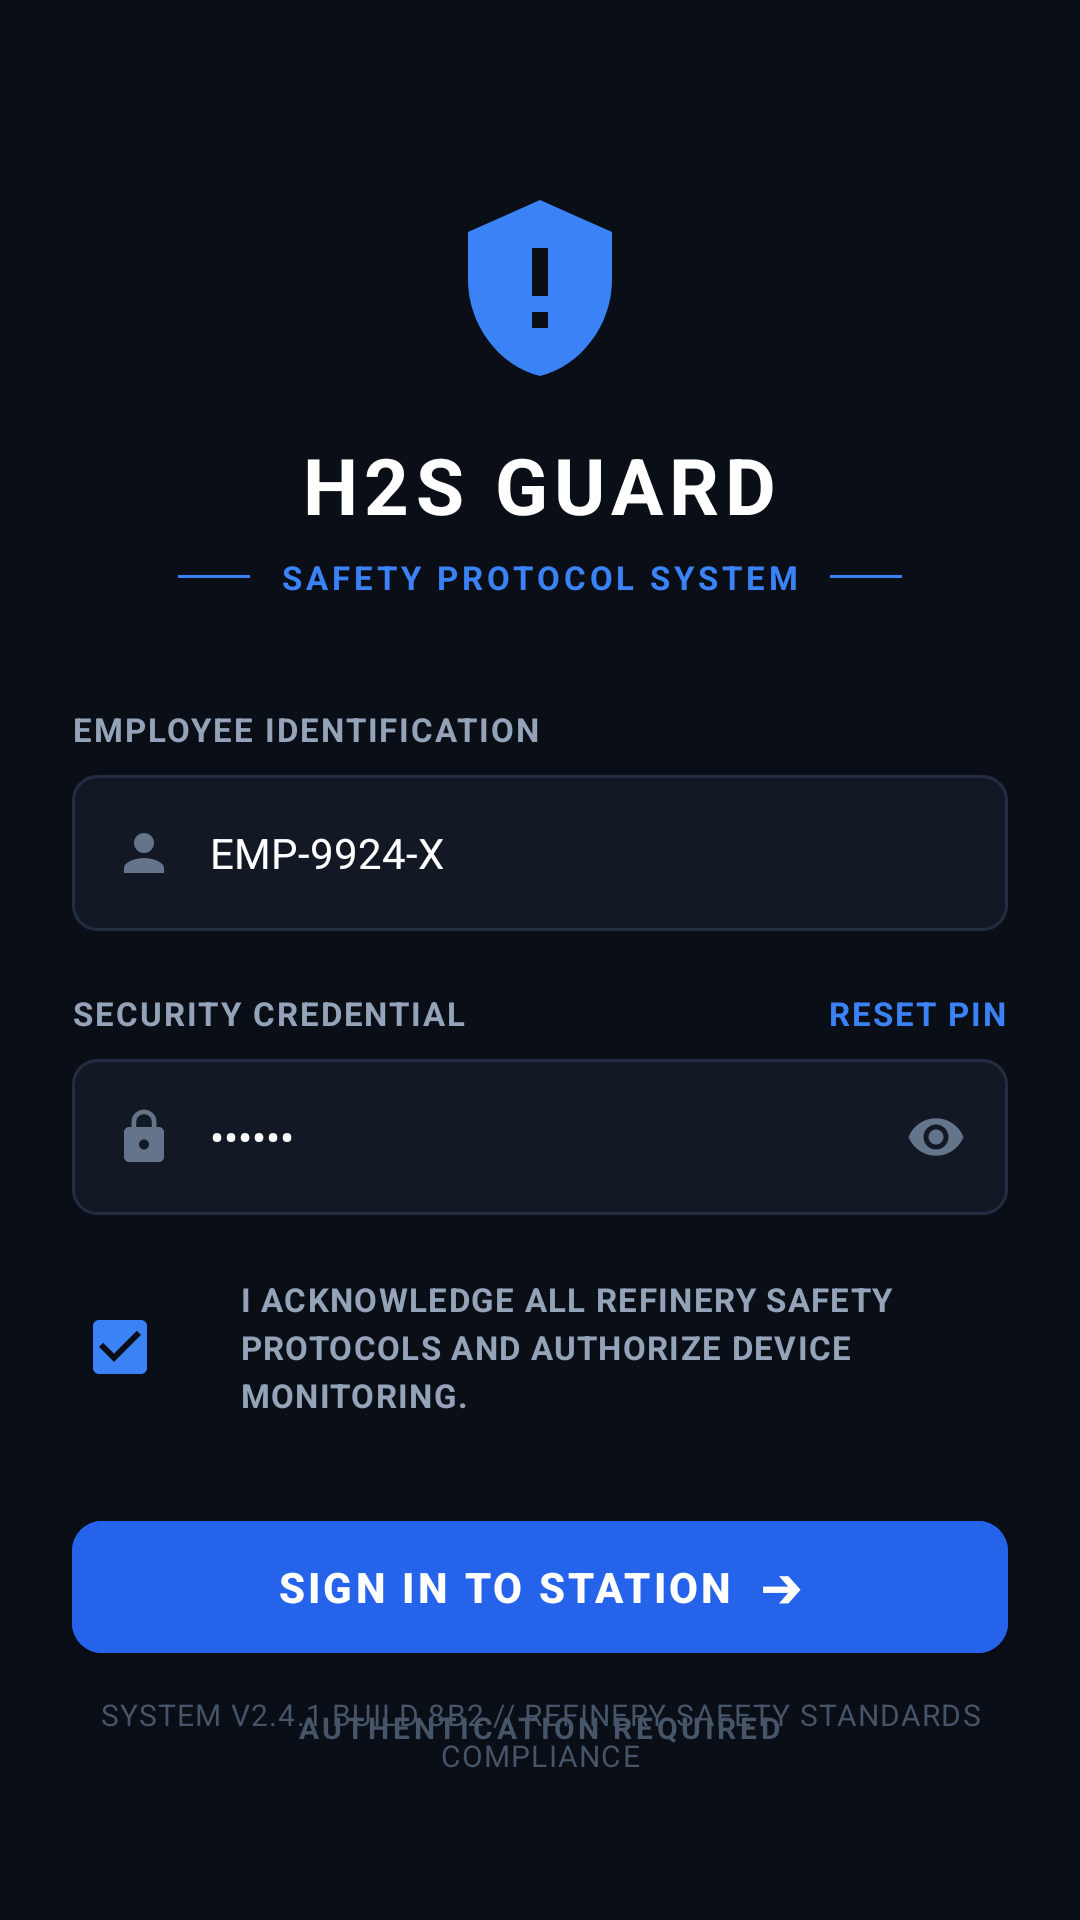

Icon click points for this 1080x1920 phone screenshot, format (x=x, y=y):
lock: (x=144, y=1135)
person: (x=144, y=853)
shield: (x=540, y=288)
visibility: (x=936, y=1137)
